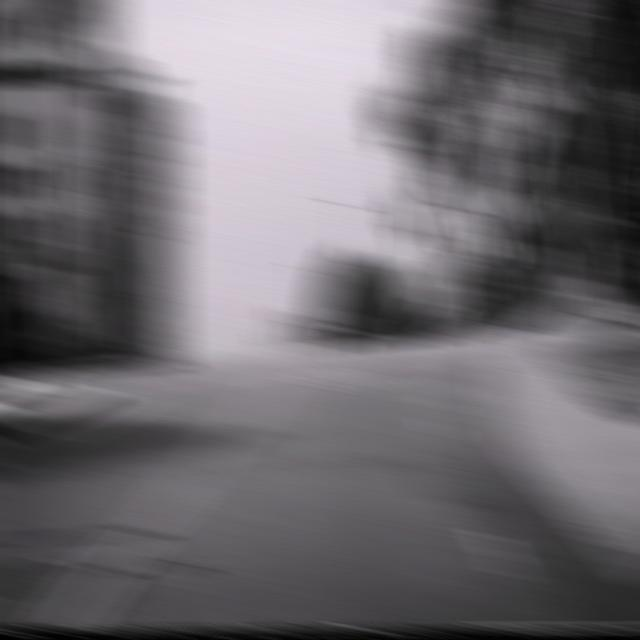stop: (536, 195, 580, 244)
